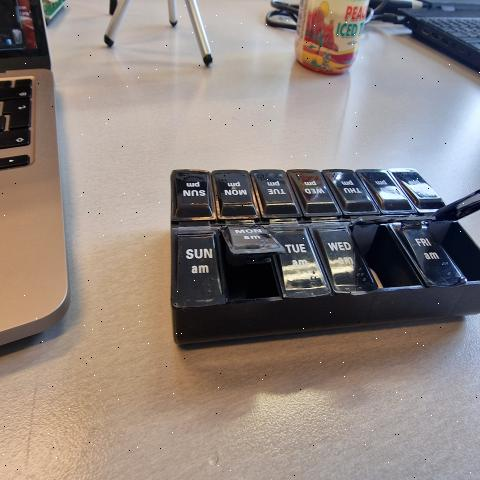Open: (217, 230, 284, 300), (350, 223, 423, 287), (431, 189, 480, 282)
